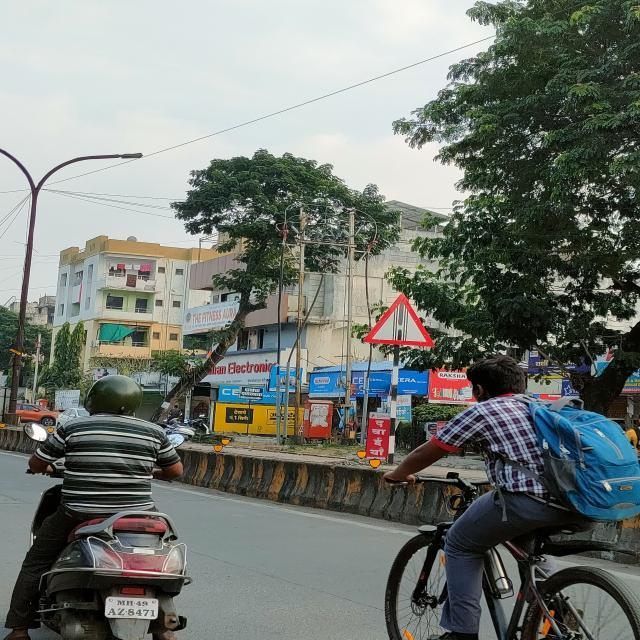gap in median: (361, 293, 435, 349)
